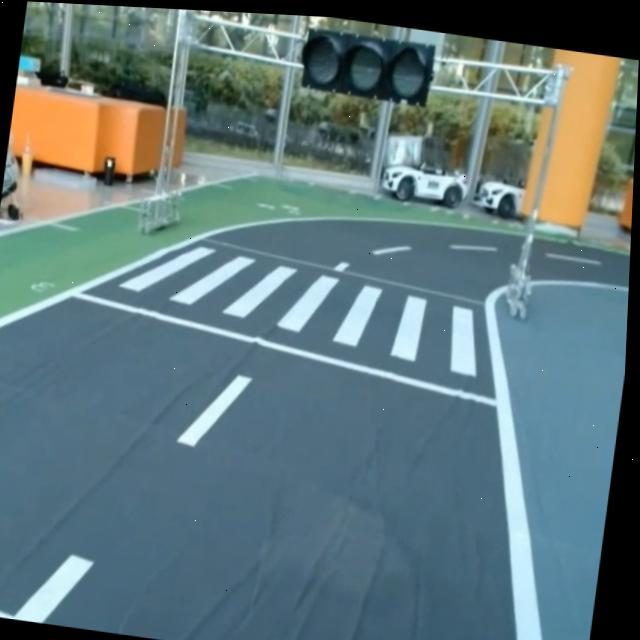traffic-light: (291, 22, 445, 108)
